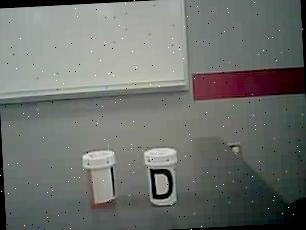Bottle D: (140, 142, 182, 213)
Bottle F: (78, 148, 122, 212)
